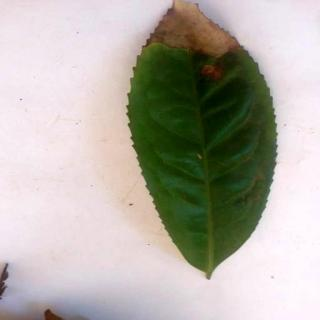Brown Blight: (128, 1, 279, 279)
